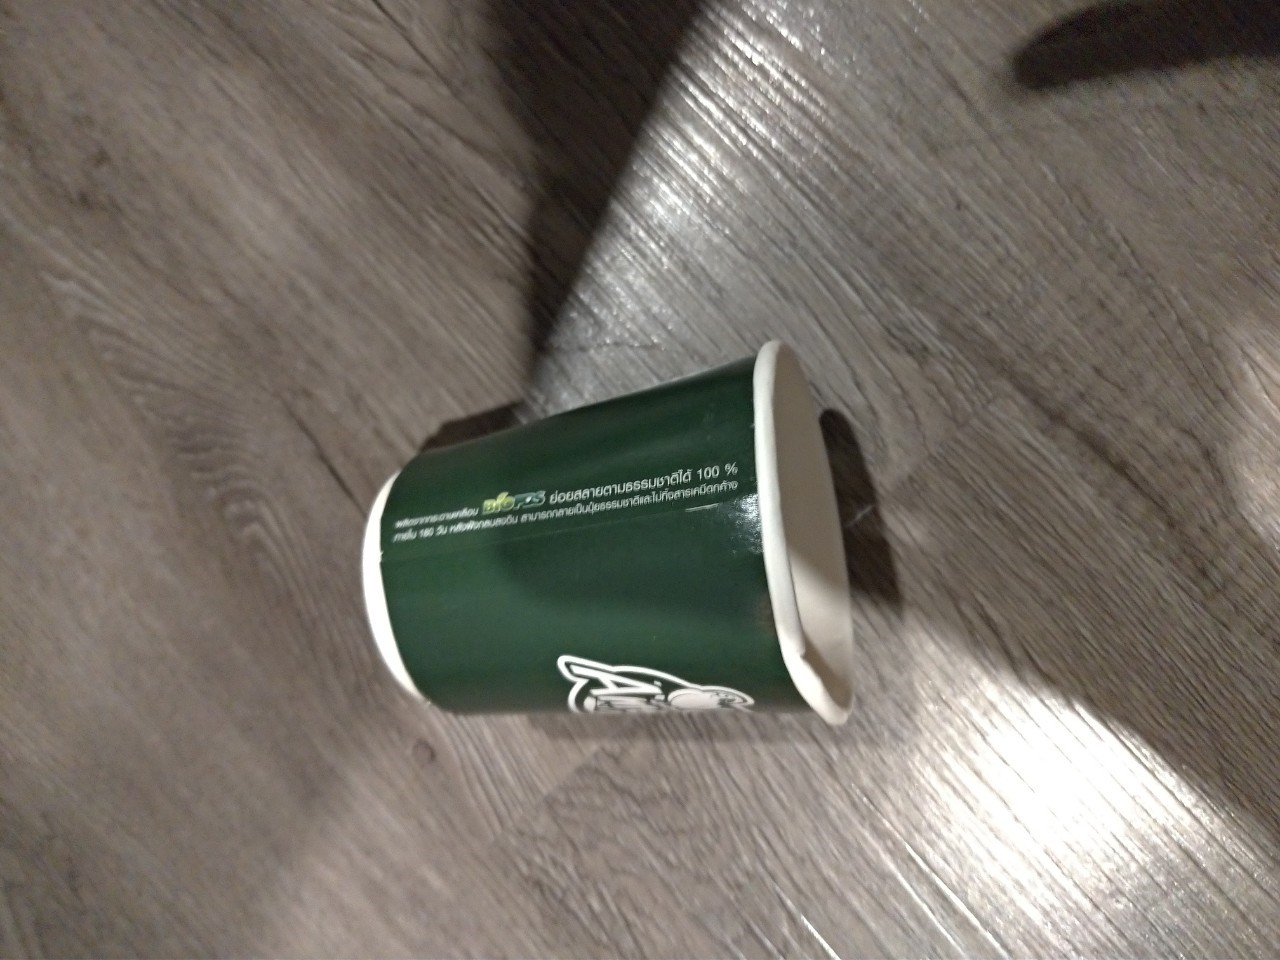PaperCup: (364, 346, 861, 740)
